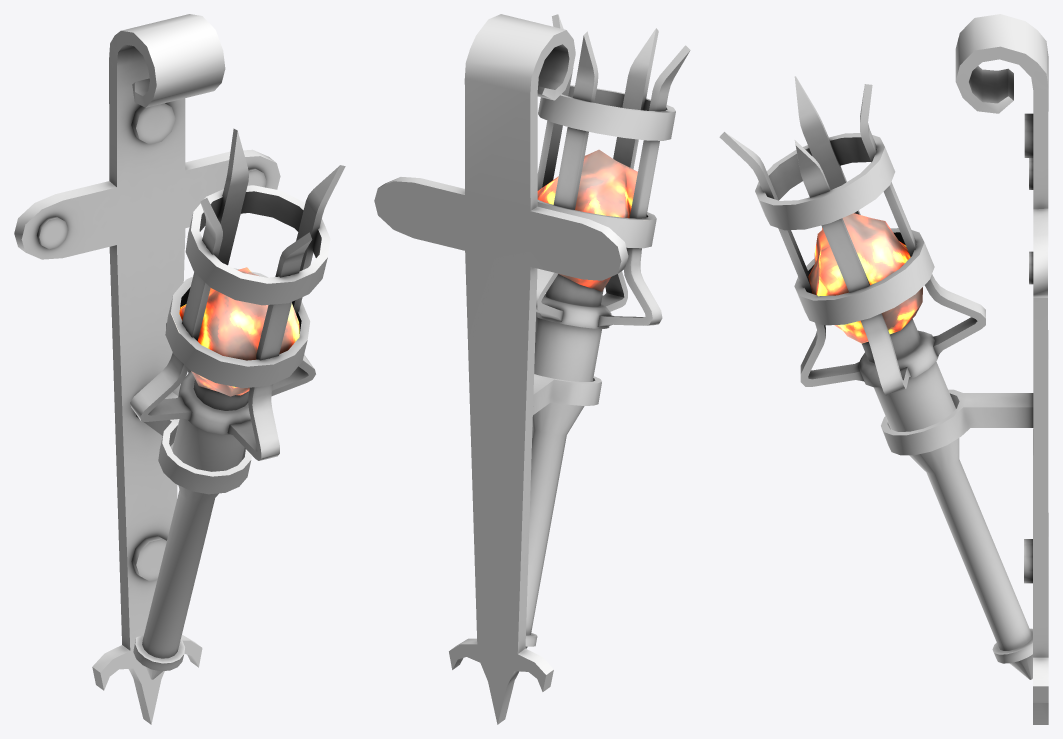
File: торч.gltf
3 renders of one model, left to right at view 1: azimuth 30°, elevation 25°; view 2: azimuth 150°, elevation 25°; view 3: azimuth 270°, elevation 25°, orthographic. The views are drawn at different scales.
Visible parts, largest first — view 1: torchholder, torch; view 2: torchholder, torch; view 3: torch, torchholder.
Part boxes in pixels (box(x1,y1,x2,y2)): torchholder: box(14, 14, 280, 724); torch: box(130, 128, 345, 679); torchholder: box(374, 14, 628, 724); torch: box(525, 14, 690, 648); torch: box(719, 76, 1032, 679); torchholder: box(881, 14, 1048, 724).
Size of the model in its own units: 0.4086 by 1.08 by 0.4621.
2 materials, 2 textured.
